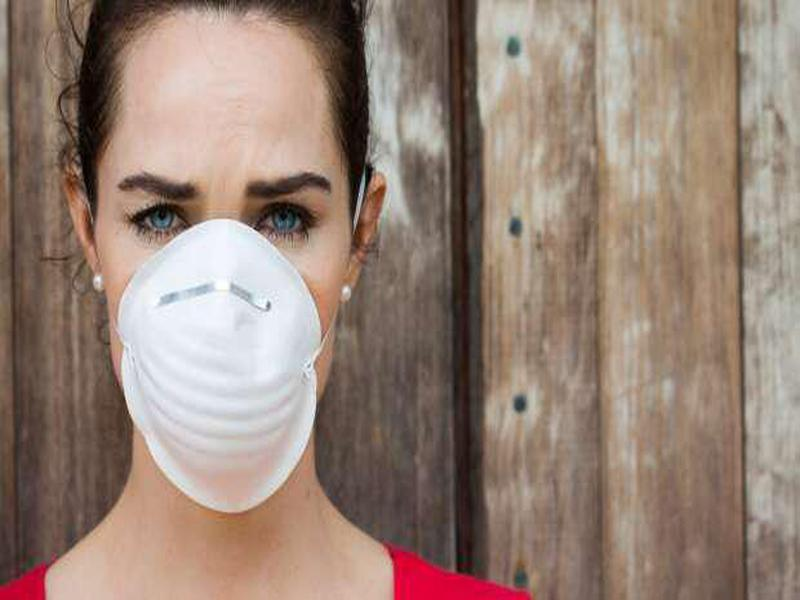with_mask: (94, 21, 358, 511)
